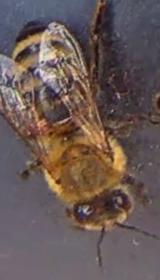varroa_mite: (24, 109, 54, 139)
